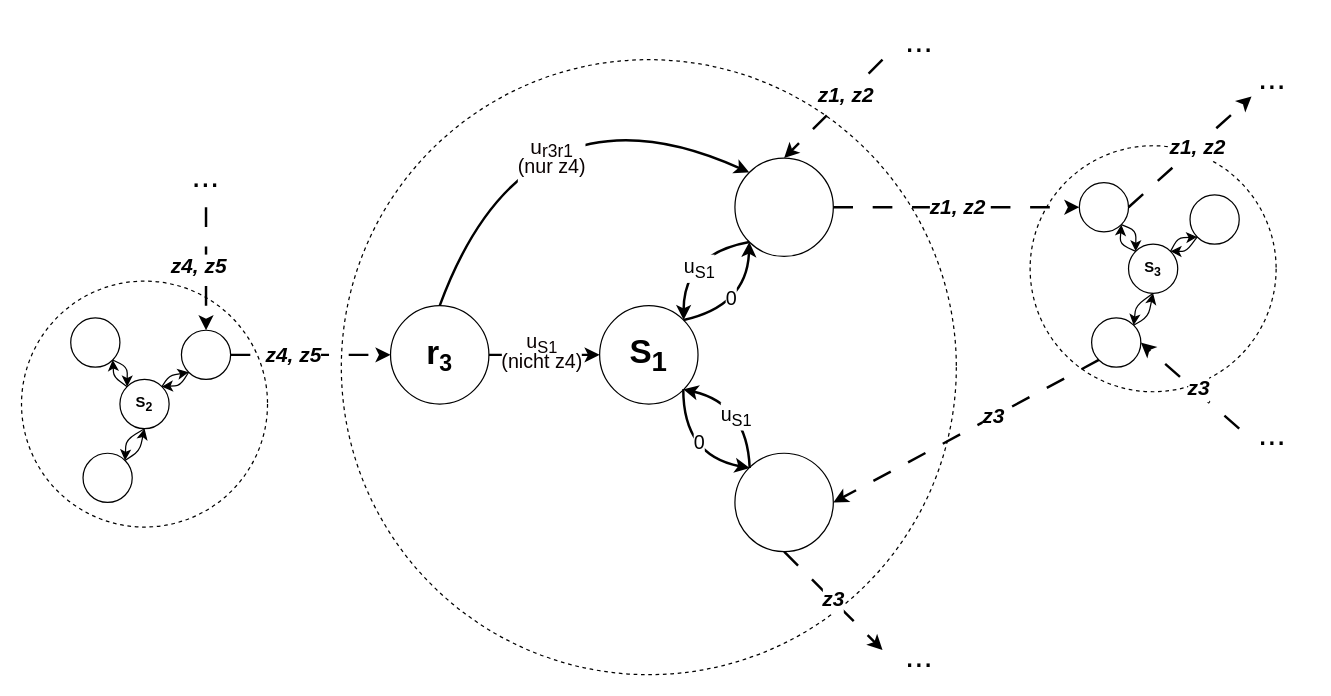
Image size: 1331x696. Some labels were removed from this diagram. The box of each missing label's shape, as (x1, y1, x2, y2) in pixels:
r 1: (734, 157, 833, 256)
r 2: (734, 452, 833, 552)
